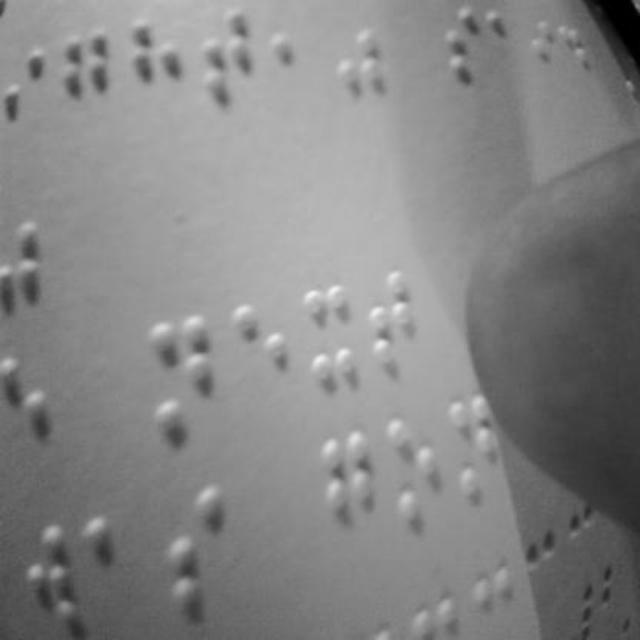braiile: (140, 304, 218, 446), (166, 473, 238, 617), (226, 294, 296, 430), (316, 426, 382, 558), (198, 2, 262, 132), (386, 413, 449, 542), (264, 1, 328, 119), (449, 392, 505, 526), (128, 12, 190, 132), (305, 282, 363, 402), (58, 22, 116, 138), (366, 262, 424, 374), (450, 5, 494, 97)
